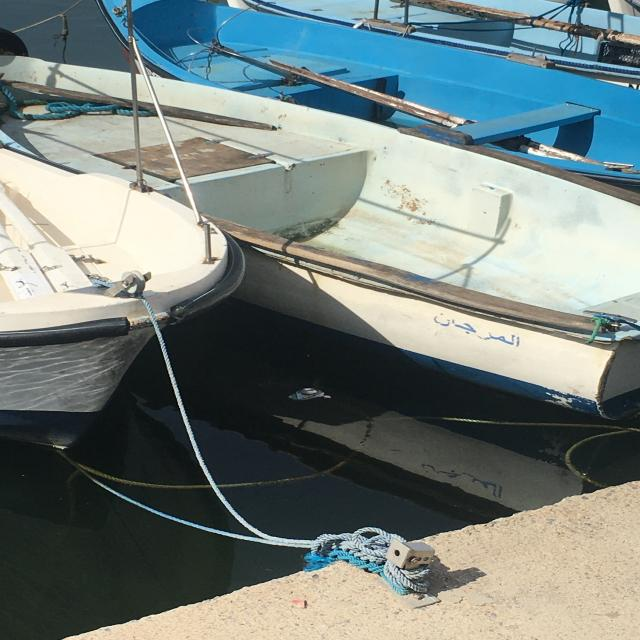Can: (286, 386, 332, 402)
